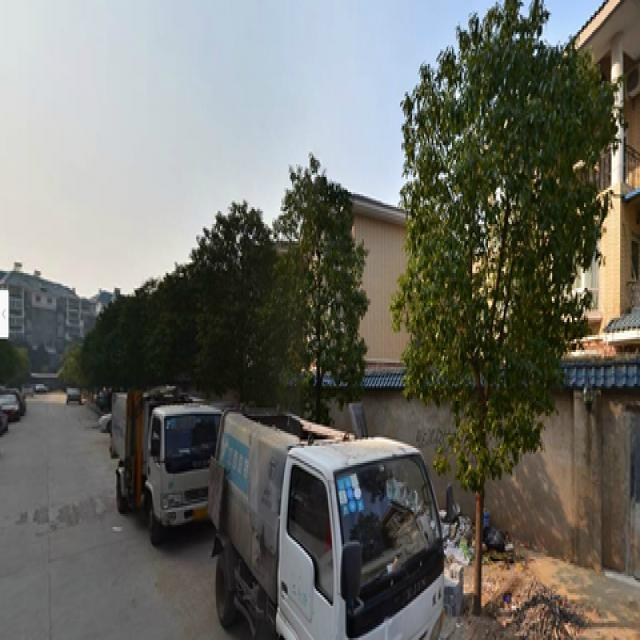cinn: (415, 26, 584, 604)
